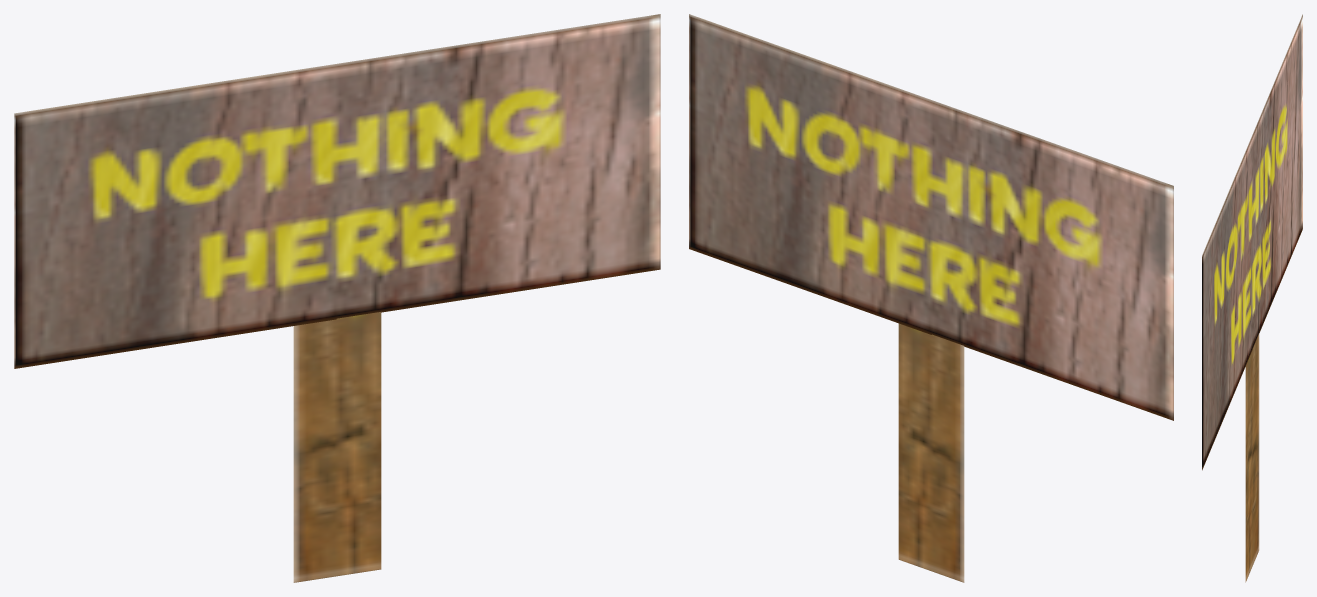
Rendered from wrongtway11.glb.
3 renders of one model, left to right at view 1: azimuth 30°, elevation 25°; view 2: azimuth 150°, elevation 25°; view 3: azimuth 270°, elevation 25°, orthographic. The views are drawn at different scales.
Parts seen in each view (by area): view 1: wrongtway11; view 2: wrongtway11; view 3: wrongtway11.
Part boxes in pixels (bbox=[...]): wrongtway11: bbox=[14, 14, 660, 582]; wrongtway11: bbox=[689, 14, 1173, 582]; wrongtway11: bbox=[1202, 14, 1302, 582].
Size of the model in its own units: 561 by 469 by 99.
1 material, 1 textured.
